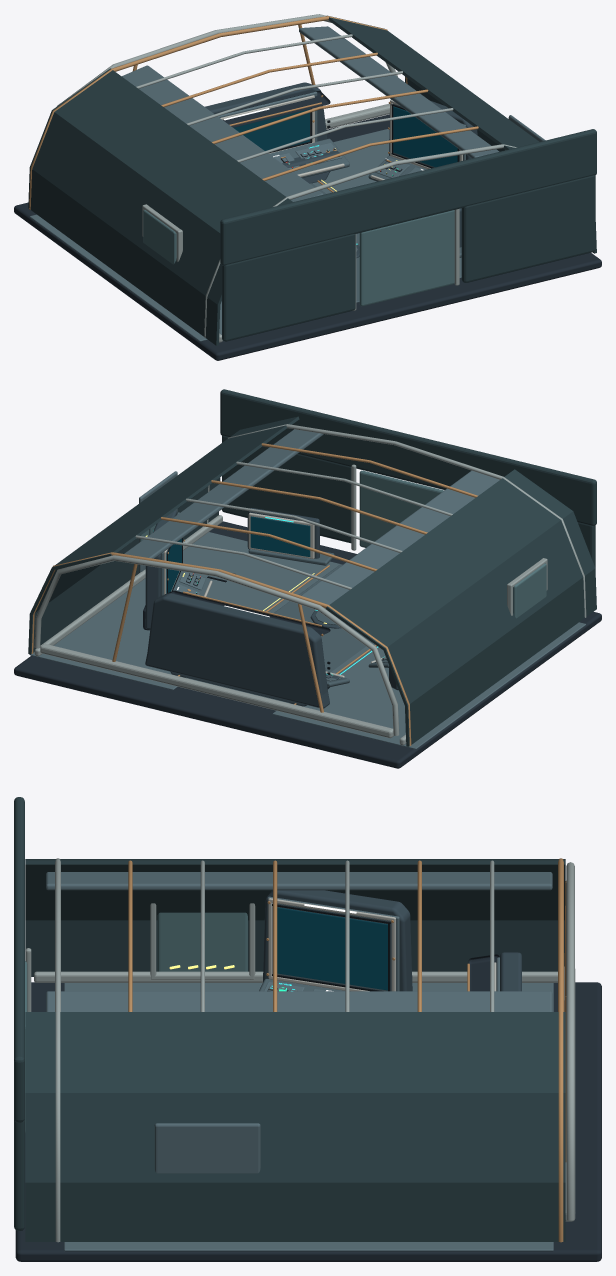
File: cockpit-v7-shell.glb
3 renders of one model, top to bottom at view 1: azimuth 30°, elevation 25°; view 2: azimuth 150°, elevation 25°; view 3: azimuth 270°, elevation 25°, orthographic. The views are drawn at different scales.
Parts seen in each view (by area): view 1: KEX7_MOBILE_HIDE_V7PressureShell, KEX7_SHELL_V7PressureShell, KEX7_SHELL_Hull, KEX7_MOBILE_HIDE_Panel, KEX7_SHELL_V7InnerPanel, KEX7_SHELL_Panel, KEX7_MOBILE_HIDE_BronzeHardware, KEX7_SHELL_Screen, KEX7_MOBILE_HIDE_V7Frame, KEX7_SHELL_V7Frame, KEX7_SHELL_HullSoft, KEX7_SHELL_WorktopComposite (+3 smaller); view 2: KEX7_MOBILE_HIDE_V7PressureShell, KEX7_SHELL_V7PressureShell, KEX7_SHELL_Panel, KEX7_SHELL_HullSoft, KEX7_SHELL_Hull, KEX7_SHELL_V7Frame, KEX7_MOBILE_HIDE_Panel, KEX7_SHELL_V7InnerPanel, KEX7_MOBILE_HIDE_V7Frame, KEX7_MOBILE_HIDE_BronzeHardware, KEX7_SHELL_WorktopComposite, KEX7_SHELL_Screen (+2 smaller); view 3: KEX7_MOBILE_HIDE_V7PressureShell, KEX7_MOBILE_HIDE_Panel, KEX7_SHELL_Hull, KEX7_SHELL_Panel, KEX7_SHELL_V7Frame, KEX7_SHELL_Screen, KEX7_SHELL_V7InnerPanel, KEX7_SHELL_V7PressureShell, KEX7_MOBILE_HIDE_V7Frame, KEX7_MOBILE_HIDE_BronzeHardware, KEX7_SHELL_HullSoft, KEX7_SHELL_CreamStructure (+2 smaller).
Boxes of the visible parts, bbox=[...] form: KEX7_MOBILE_HIDE_V7PressureShell: bbox=[28, 15, 596, 345]; KEX7_SHELL_V7PressureShell: bbox=[220, 129, 596, 341]; KEX7_SHELL_Hull: bbox=[14, 90, 601, 360]; KEX7_MOBILE_HIDE_Panel: bbox=[122, 26, 499, 201]; KEX7_SHELL_V7InnerPanel: bbox=[143, 150, 505, 306]; KEX7_SHELL_Panel: bbox=[30, 91, 545, 341]; KEX7_MOBILE_HIDE_BronzeHardware: bbox=[29, 16, 478, 209]; KEX7_SHELL_Screen: bbox=[233, 106, 457, 167]; KEX7_MOBILE_HIDE_V7Frame: bbox=[136, 34, 516, 337]; KEX7_SHELL_V7Frame: bbox=[57, 14, 459, 342]; KEX7_SHELL_HullSoft: bbox=[204, 82, 477, 258]; KEX7_SHELL_WorktopComposite: bbox=[269, 138, 461, 302]; KEX7_MOBILE_HIDE_V7PressureShell: bbox=[28, 416, 596, 746]; KEX7_SHELL_V7PressureShell: bbox=[220, 389, 596, 568]; KEX7_SHELL_Panel: bbox=[29, 471, 585, 749]; KEX7_SHELL_HullSoft: bbox=[145, 508, 398, 708]; KEX7_SHELL_Hull: bbox=[14, 521, 601, 768]; KEX7_SHELL_V7Frame: bbox=[34, 464, 547, 745]; KEX7_MOBILE_HIDE_Panel: bbox=[124, 429, 499, 608]; KEX7_SHELL_V7InnerPanel: bbox=[140, 470, 546, 618]; KEX7_MOBILE_HIDE_V7Frame: bbox=[135, 424, 586, 617]; KEX7_MOBILE_HIDE_BronzeHardware: bbox=[31, 443, 477, 745]; KEX7_SHELL_WorktopComposite: bbox=[173, 549, 388, 703]; KEX7_SHELL_Screen: bbox=[166, 516, 310, 593]; KEX7_MOBILE_HIDE_V7PressureShell: bbox=[25, 859, 565, 1241]; KEX7_MOBILE_HIDE_Panel: bbox=[46, 872, 552, 1011]; KEX7_SHELL_Hull: bbox=[15, 954, 601, 1261]; KEX7_SHELL_Panel: bbox=[64, 896, 553, 1251]; KEX7_SHELL_V7Frame: bbox=[25, 862, 575, 1221]; KEX7_SHELL_Screen: bbox=[277, 907, 387, 990]; KEX7_SHELL_V7InnerPanel: bbox=[25, 912, 247, 1133]; KEX7_SHELL_V7PressureShell: bbox=[14, 797, 24, 1230]; KEX7_MOBILE_HIDE_V7Frame: bbox=[55, 858, 494, 1242]; KEX7_MOBILE_HIDE_BronzeHardware: bbox=[128, 858, 563, 1242]; KEX7_SHELL_HullSoft: bbox=[263, 890, 521, 991]; KEX7_SHELL_CreamStructure: bbox=[268, 898, 496, 991].
Bounding box in the file's own units: 26.6 × 9.47 × 24.37.
